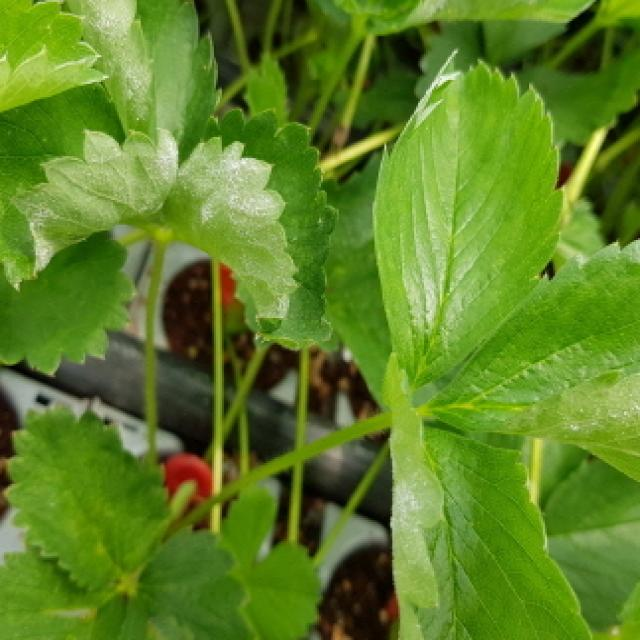Powdery Mildew Leaf: (370, 51, 566, 385), (385, 353, 595, 640), (425, 238, 640, 484), (157, 107, 339, 348), (0, 83, 180, 294), (65, 0, 225, 160)
